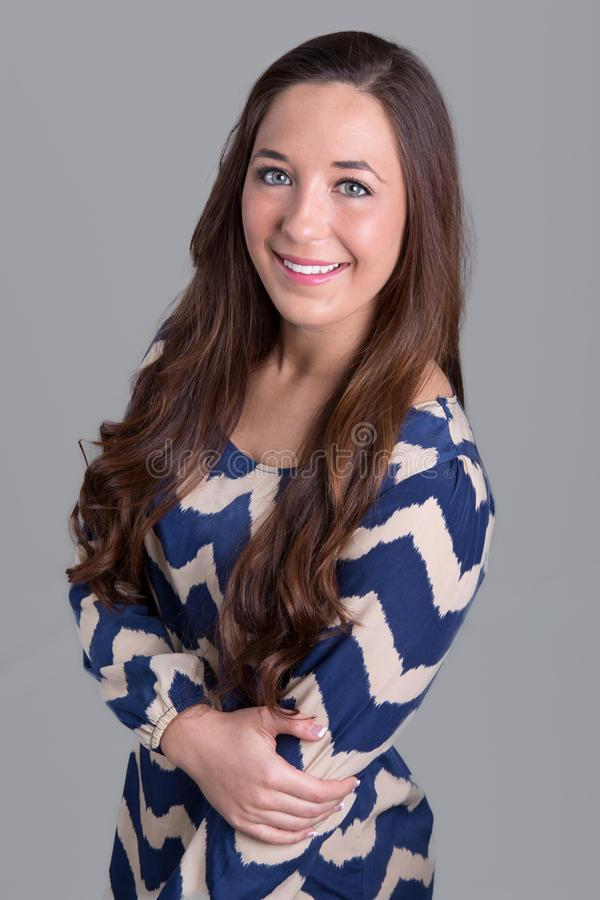not_helmet: (214, 22, 472, 348)
not_reflective: (59, 377, 501, 900)
